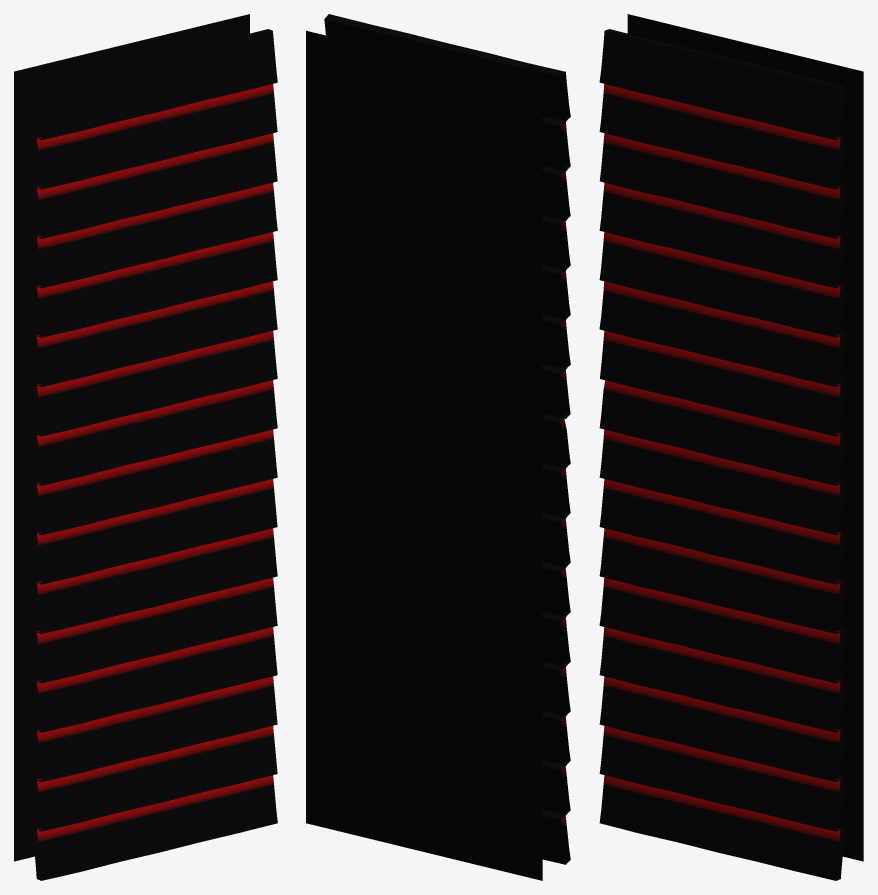
The model's file is SM_House_ExtWall_100CM4.fbx.
The picture shows the model from 3 angles, left to right: view 1: azimuth 30°, elevation 25°; view 2: azimuth 150°, elevation 25°; view 3: azimuth 330°, elevation 25°; orthographic projection.
Visible parts, largest first — view 1: SM_House_ExtWall_100CM4; view 2: SM_House_ExtWall_100CM4; view 3: SM_House_ExtWall_100CM4.
Part boxes in pixels (x1=…): SM_House_ExtWall_100CM4: x1=14, y1=14, x2=277, y2=880; SM_House_ExtWall_100CM4: x1=306, y1=14, x2=570, y2=880; SM_House_ExtWall_100CM4: x1=599, y1=14, x2=863, y2=880.
Bounding box in the file's own units: 100 × 20.38 × 320.
